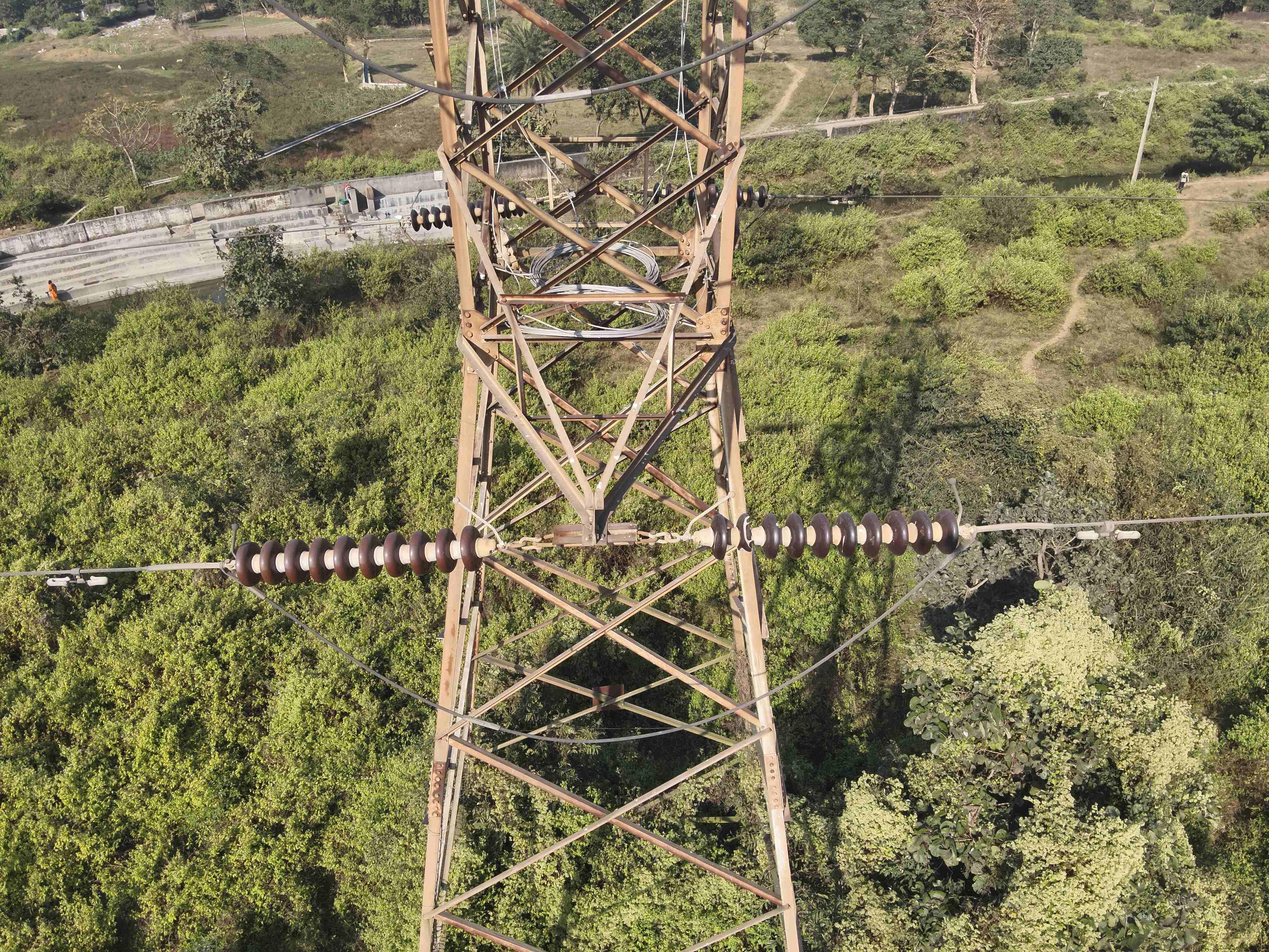broken_insulator: (733, 509, 758, 556)
